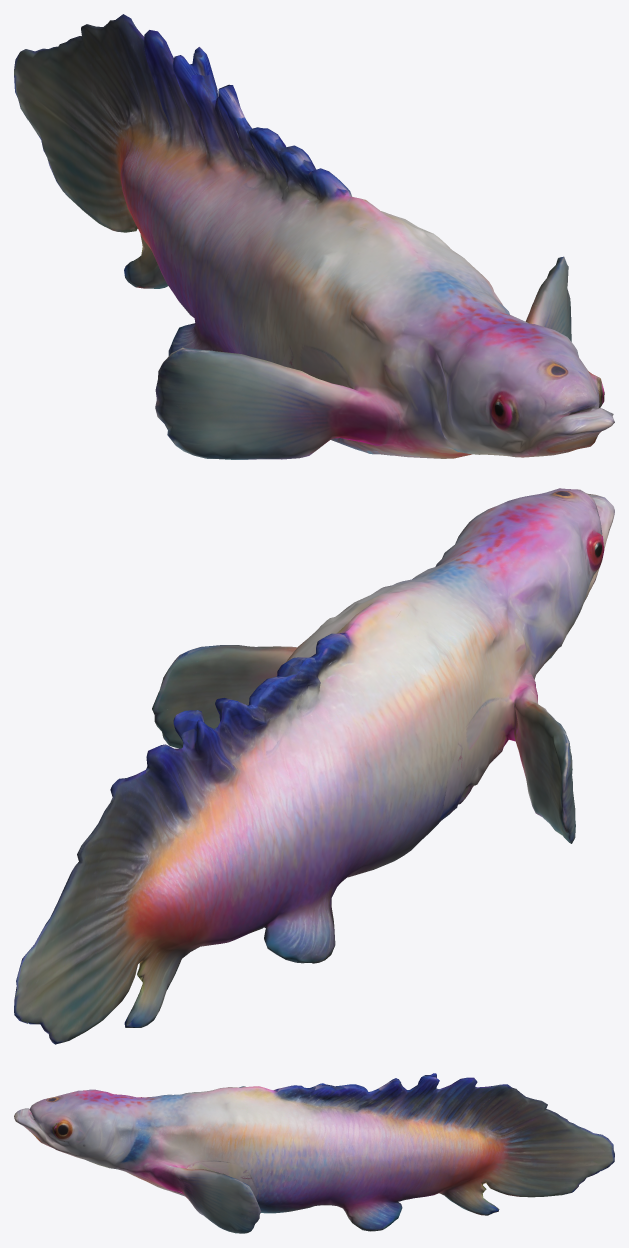
The model's file is palmas_albino_0604071152_texture.glb.
3 views of the same model, one above another, from view 1: azimuth 30°, elevation 25°; view 2: azimuth 150°, elevation 25°; view 3: azimuth 270°, elevation 25° (orthographic). The views are drawn at different scales.
Size of the model in its own units: 0.8107 by 0.5117 by 2.
Materials: 1 (1 with a texture image).
